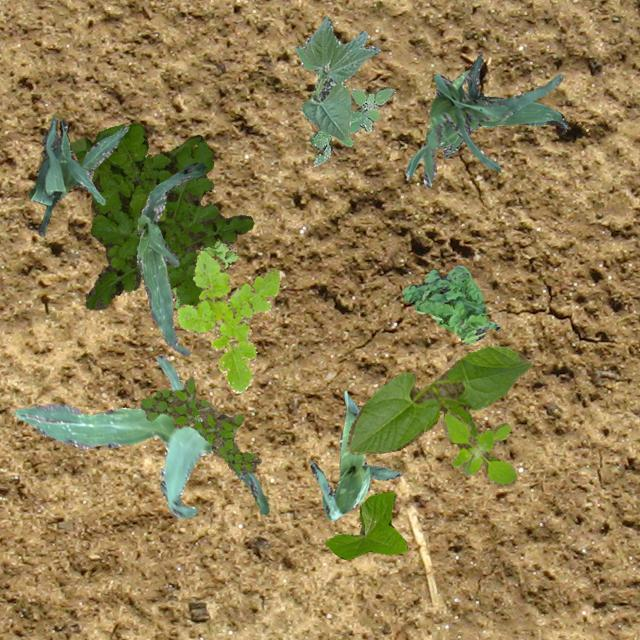crop: (13, 354, 268, 516), (346, 344, 532, 454), (404, 52, 568, 176), (422, 70, 562, 186), (136, 162, 206, 356), (28, 116, 128, 236), (310, 390, 400, 520), (301, 15, 378, 140), (324, 492, 406, 558)
weed: (69, 122, 252, 308), (174, 249, 280, 392), (294, 44, 394, 166), (140, 377, 260, 472), (400, 264, 500, 344), (440, 410, 516, 484), (170, 238, 237, 308)
